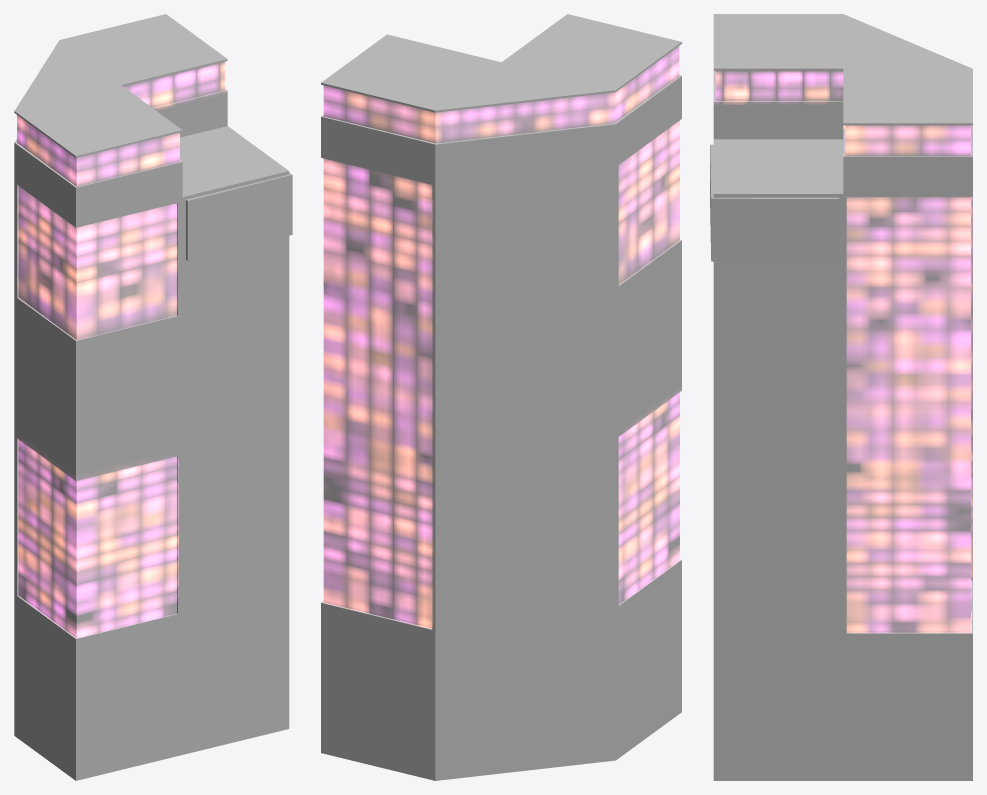
The model's file is BuildingLRoof.fbx.
3 views of the same model, side by side, from view 1: azimuth 30°, elevation 25°; view 2: azimuth 150°, elevation 25°; view 3: azimuth 270°, elevation 25° (orthographic). The views are drawn at different scales.
Visible parts, largest first — view 1: BuildingLRoof; view 2: BuildingLRoof; view 3: BuildingLRoof.
Boxes of the visible parts, x1,y1,x2,y2 form: BuildingLRoof: (14,14,292,780); BuildingLRoof: (321,14,681,780); BuildingLRoof: (710,14,972,780).
Size of the model in its own units: 203 by 560 by 203.
